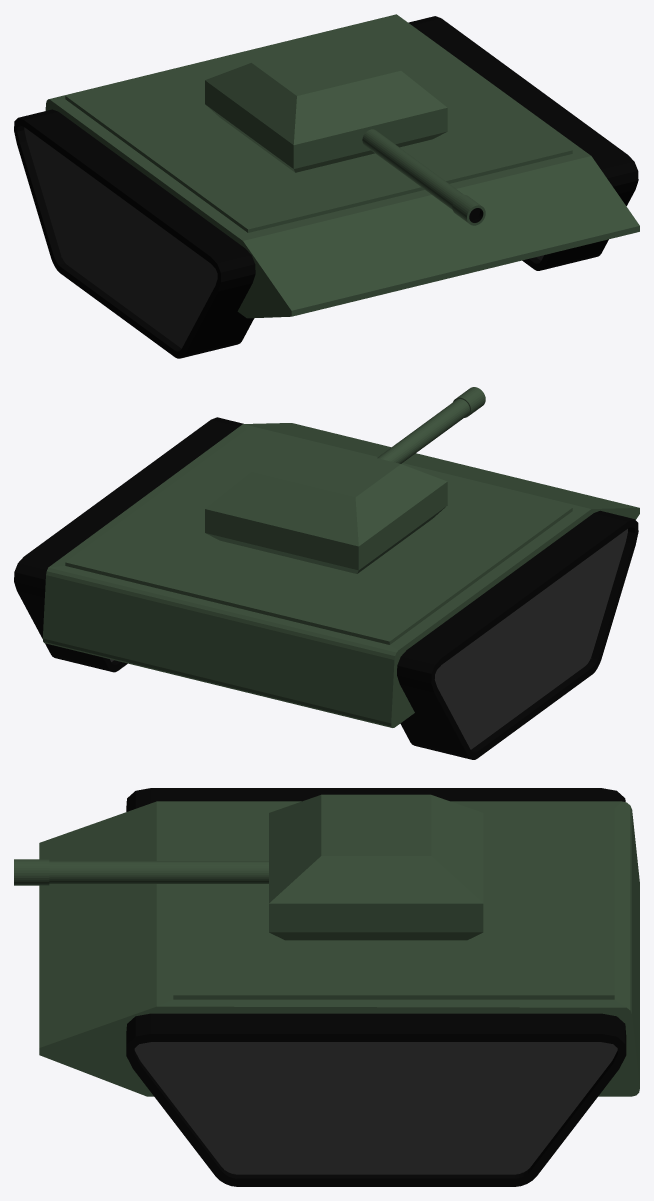
Rendered from Tank Textured.fbx.
3 views of the same model, one above another, from view 1: azimuth 30°, elevation 25°; view 2: azimuth 150°, elevation 25°; view 3: azimuth 270°, elevation 25° (orthographic). The views are drawn at different scales.
Parts seen in each view (by area): view 1: Tank Base, Tank Top (Attached Barrel); view 2: Tank Base, Tank Top (Attached Barrel); view 3: Tank Base, Tank Top (Attached Barrel).
Boxes of the visible parts, left/top/right/bottom form: Tank Base: left=14, top=14, right=639, bottom=358; Tank Top (Attached Barrel): left=205, top=37, right=485, bottom=225; Tank Base: left=14, top=417, right=639, bottom=759; Tank Top (Attached Barrel): left=205, top=387, right=485, bottom=573; Tank Base: left=39, top=788, right=639, bottom=1186; Tank Top (Attached Barrel): left=14, top=794, right=483, bottom=940.
Bounding box in the file's own units: 345 × 156 × 371.
Materials: 2 (2 with a texture image).
